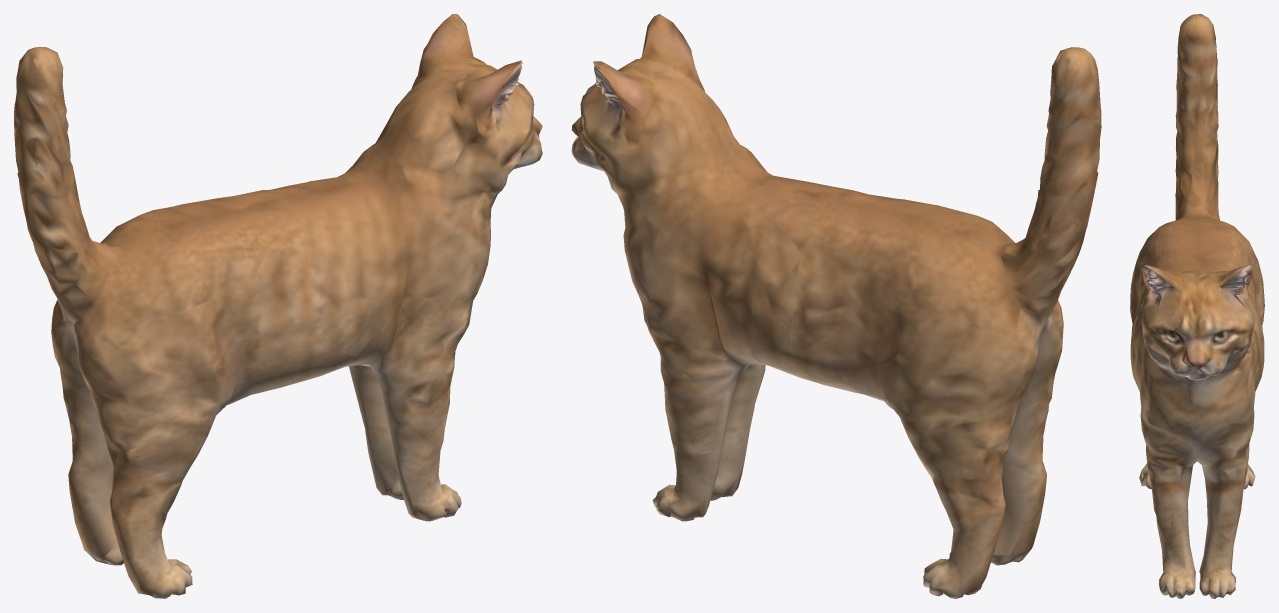
File: GOCCHAN-lo.glb
3 renders of one model, left to right at view 1: azimuth 30°, elevation 25°; view 2: azimuth 150°, elevation 25°; view 3: azimuth 270°, elevation 25°, orthographic. The views are drawn at different scales.
Parts seen in each view (by area): view 1: tripo_node_812e74b2-16e4-4a12-8137-df3b1c4703ea; view 2: tripo_node_812e74b2-16e4-4a12-8137-df3b1c4703ea; view 3: tripo_node_812e74b2-16e4-4a12-8137-df3b1c4703ea.
Part boxes in pixels (x1,y1,x2,y2): tripo_node_812e74b2-16e4-4a12-8137-df3b1c4703ea: (14, 14, 542, 598); tripo_node_812e74b2-16e4-4a12-8137-df3b1c4703ea: (571, 14, 1101, 598); tripo_node_812e74b2-16e4-4a12-8137-df3b1c4703ea: (1130, 14, 1264, 598).
Size of the model in its own units: 0.9983 by 0.9981 by 0.2827.
Materials: 1 (1 with a texture image).
